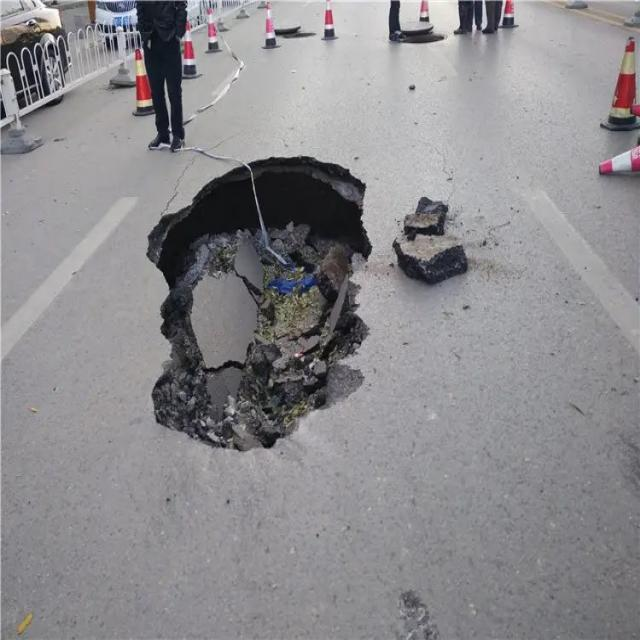Buraco: (141, 152, 376, 456)
